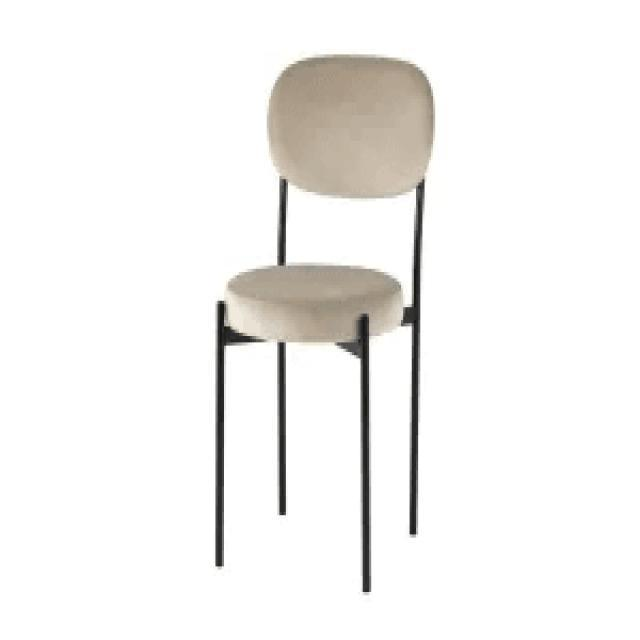chair: (209, 49, 439, 594), (224, 55, 436, 342)
